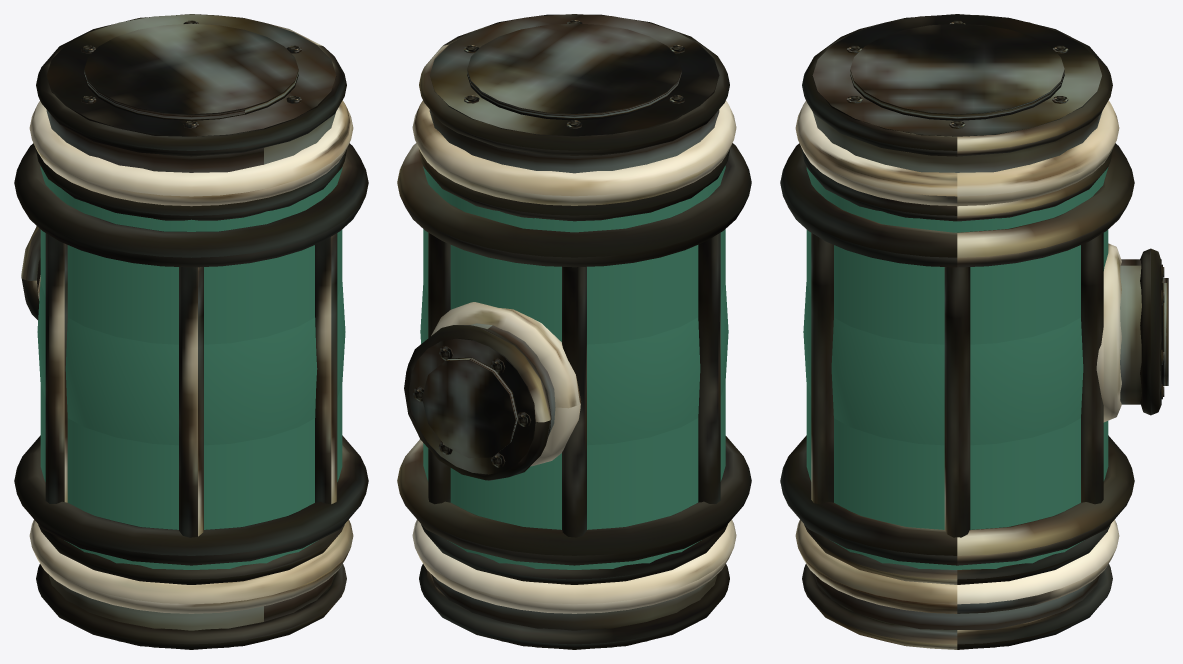
Rendered from organ-regen-icon-v1.glb.
3 renders of one model, left to right at view 1: azimuth 30°, elevation 25°; view 2: azimuth 150°, elevation 25°; view 3: azimuth 270°, elevation 25°, orthographic.
Visible parts, largest first — view 1: organ-regen-icon-v1-brass, organ-regen-icon-v1-glass, organ-regen-icon-v1-steel, organ-regen-icon-v1-ceramic; view 2: organ-regen-icon-v1-brass, organ-regen-icon-v1-steel, organ-regen-icon-v1-glass, organ-regen-icon-v1-ceramic; view 3: organ-regen-icon-v1-brass, organ-regen-icon-v1-glass, organ-regen-icon-v1-steel, organ-regen-icon-v1-ceramic.
Part boxes in pixels (bbox=[...]): organ-regen-icon-v1-brass: bbox=[14, 14, 368, 649]; organ-regen-icon-v1-glass: bbox=[37, 166, 345, 569]; organ-regen-icon-v1-steel: bbox=[37, 14, 336, 648]; organ-regen-icon-v1-ceramic: bbox=[29, 100, 353, 613]; organ-regen-icon-v1-brass: bbox=[397, 14, 751, 649]; organ-regen-icon-v1-steel: bbox=[409, 14, 719, 648]; organ-regen-icon-v1-glass: bbox=[420, 165, 728, 569]; organ-regen-icon-v1-ceramic: bbox=[412, 100, 736, 613]; organ-regen-icon-v1-brass: bbox=[780, 14, 1164, 649]; organ-regen-icon-v1-glass: bbox=[803, 167, 1108, 569]; organ-regen-icon-v1-steel: bbox=[812, 14, 1168, 648]; organ-regen-icon-v1-ceramic: bbox=[795, 100, 1121, 613].
Bounding box in the file's own units: 0.4949 × 0.81 × 0.5424.
Materials: 4 (2 with a texture image).
